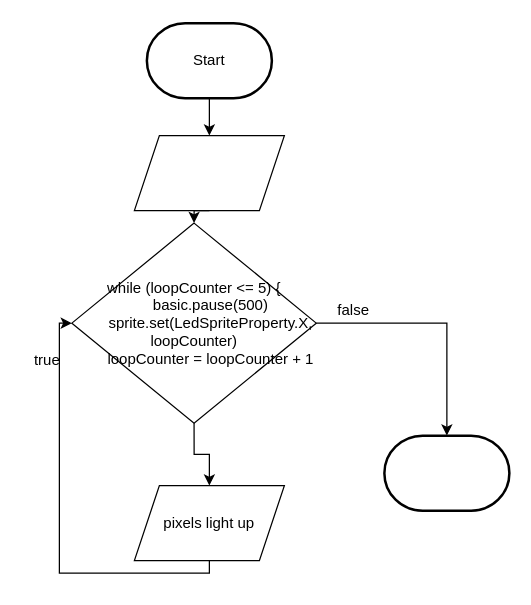
Some shapes in this 531 by 605 pixel diagram are drawn without their labels. Each missing label, with the box of its shape:
Button A is pressed: (133, 134, 284, 211)
Stop: (382, 434, 510, 511)
